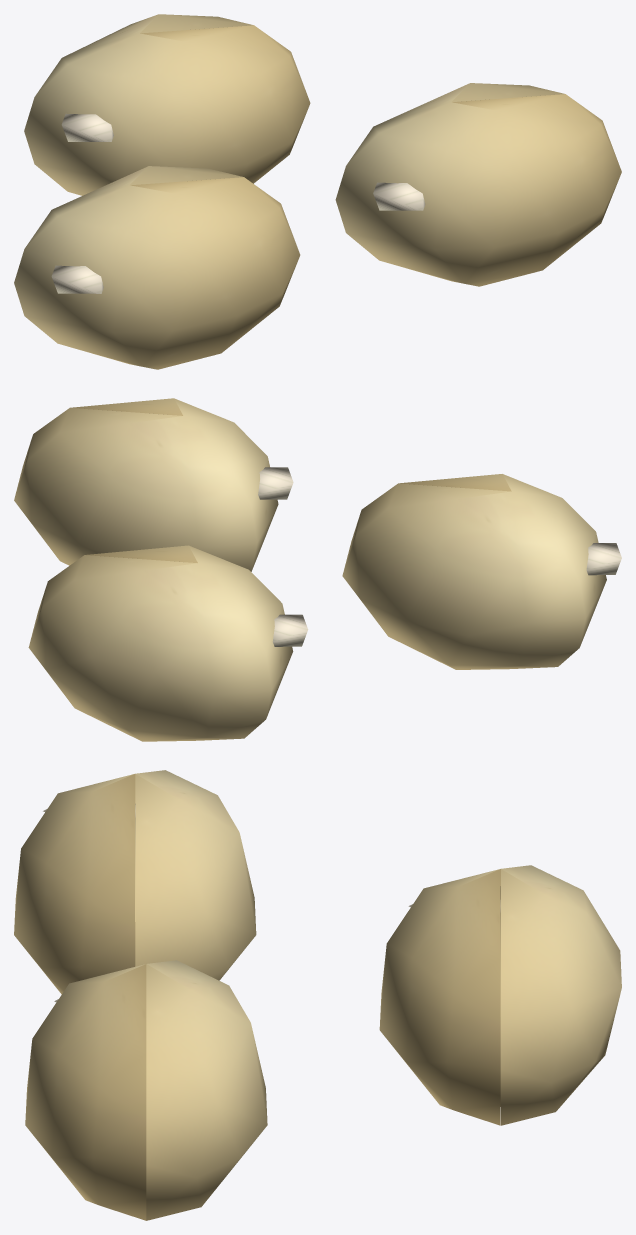
File: NP_GreenBean_Seed_LOD1.fbx
The picture shows the model from 3 angles, top to bottom: view 1: azimuth 30°, elevation 25°; view 2: azimuth 150°, elevation 25°; view 3: azimuth 270°, elevation 25°; orthographic projection. The views are drawn at different scales.
Parts seen in each view (by area): view 1: NP_GreenBean_Seed; view 2: NP_GreenBean_Seed; view 3: NP_GreenBean_Seed.
Part boxes in pixels (x1,y1,x2,y2): NP_GreenBean_Seed: (14,14,621,369); NP_GreenBean_Seed: (14,398,621,741); NP_GreenBean_Seed: (14,770,621,1220).
Bounding box in the file's own units: 14.29 × 4.19 × 10.81.
